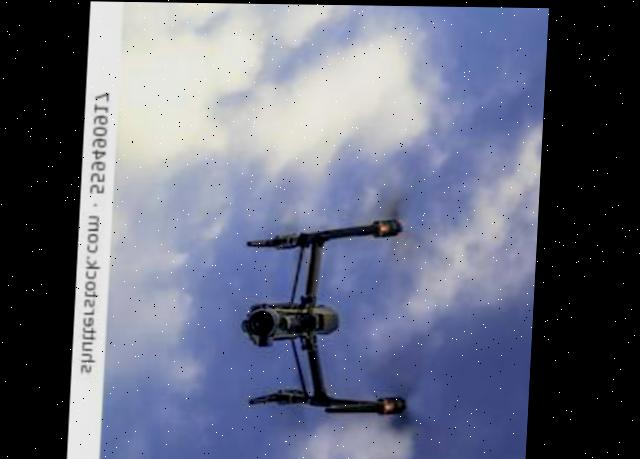drone: (225, 168, 448, 459)
